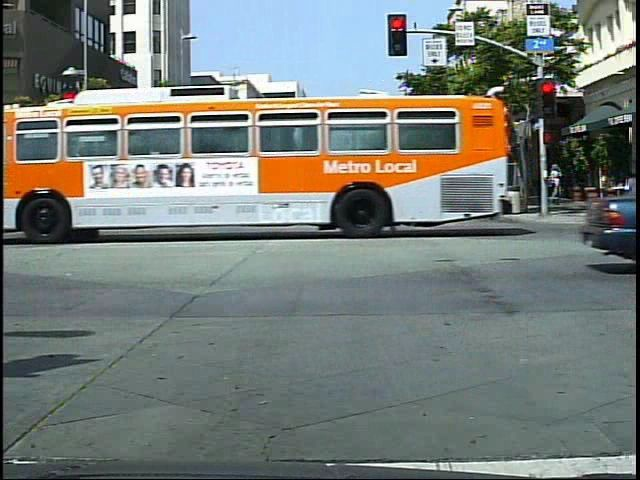person: (281, 165, 313, 229), (180, 168, 210, 234), (346, 166, 376, 230), (548, 160, 570, 201)
